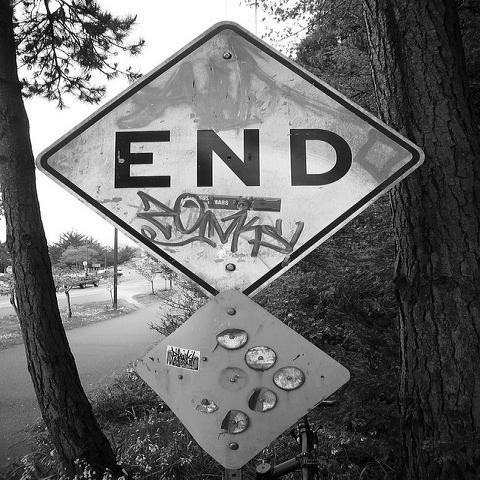car: (75, 275, 100, 288), (98, 269, 114, 276)
